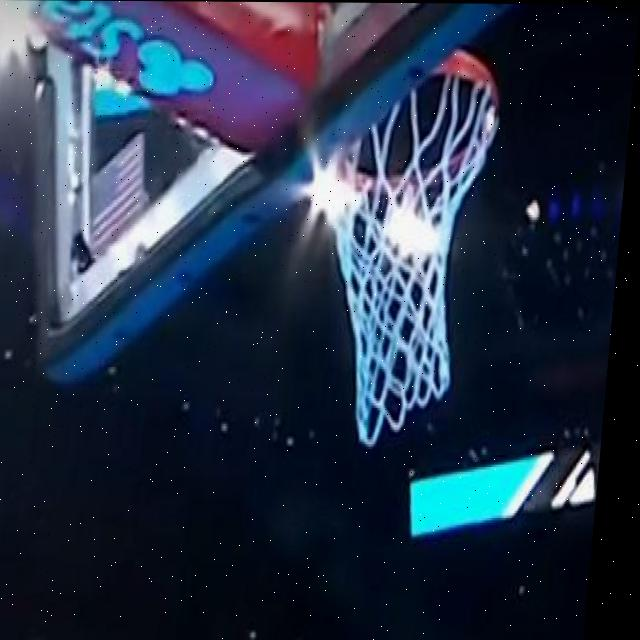hoop: (304, 63, 504, 425)
